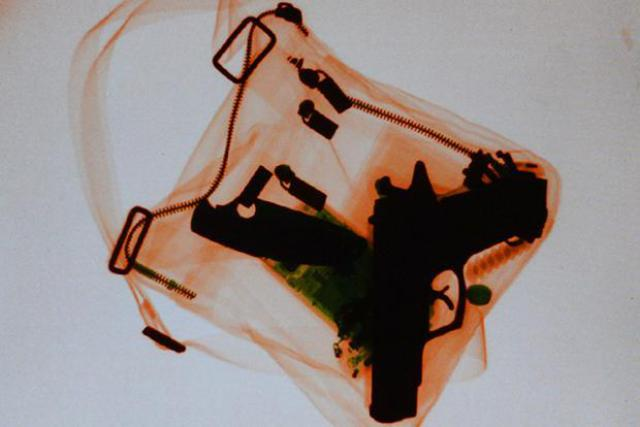Gun: (362, 141, 550, 422)
